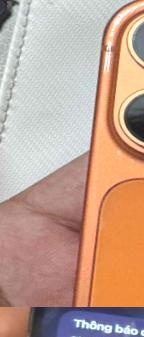scratch: (88, 0, 144, 87)
